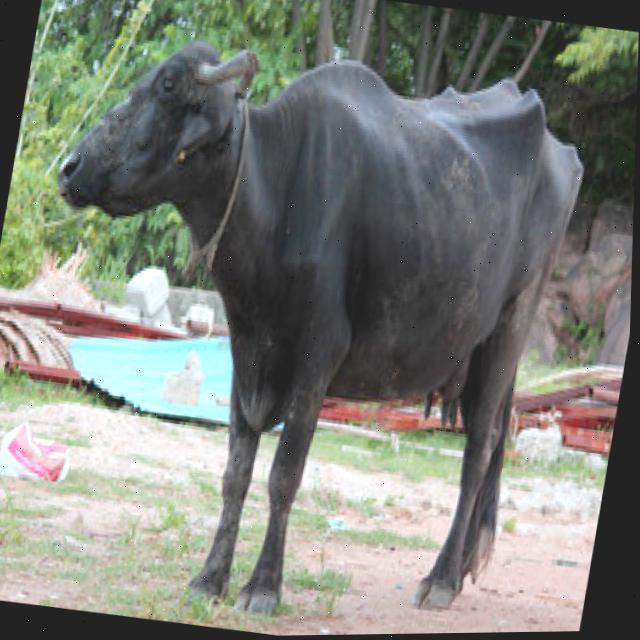Buffalo: (0, 4, 606, 640)
